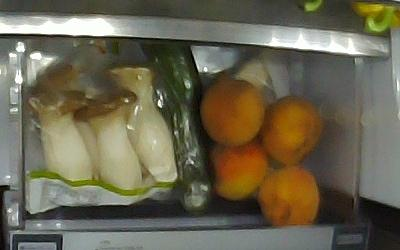peach: (199, 79, 266, 146), (259, 96, 323, 165), (206, 139, 269, 200), (258, 168, 319, 226)
